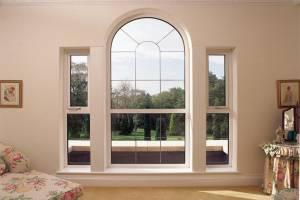window: (58, 12, 235, 169)
